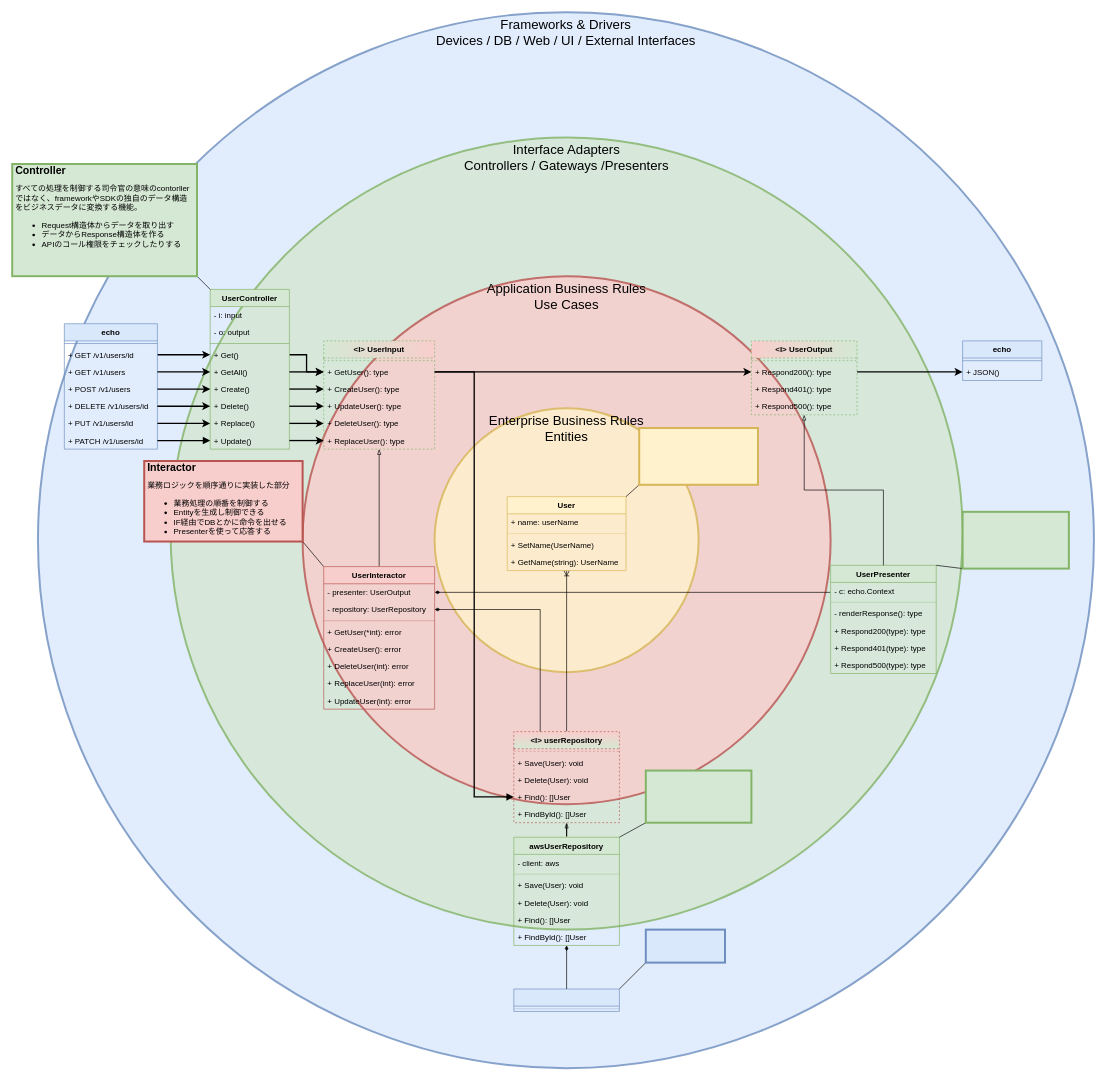
This 1106x1080 diagram has some shape labels left out. Each missing label, with the centre of its shape:
"aws_sdk" belongs at pixel 566 999.
"Entity Set関数に以下のコードがあれば、 業務仕様が一瞬で分かるよね。 3文字以上、10文字以下" belongs at pixel 698 456.
"Framework AWS SDKのこと。" belongs at pixel 685 945.
"gateways aws SDKを使ったAWSリソースの制御を行う" belongs at pixel 698 796.
"presenter echo frameworkのルール通りにデータをシリアライズする。" belongs at pixel 1015 540.
